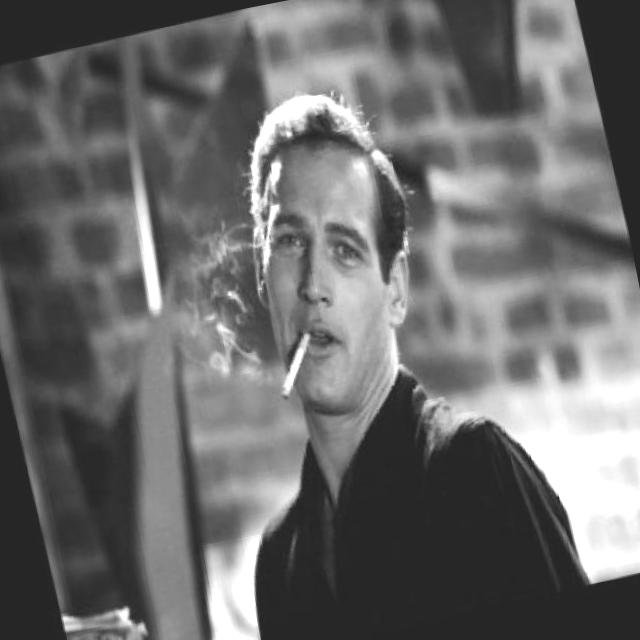cigarette: (264, 329, 325, 406)
